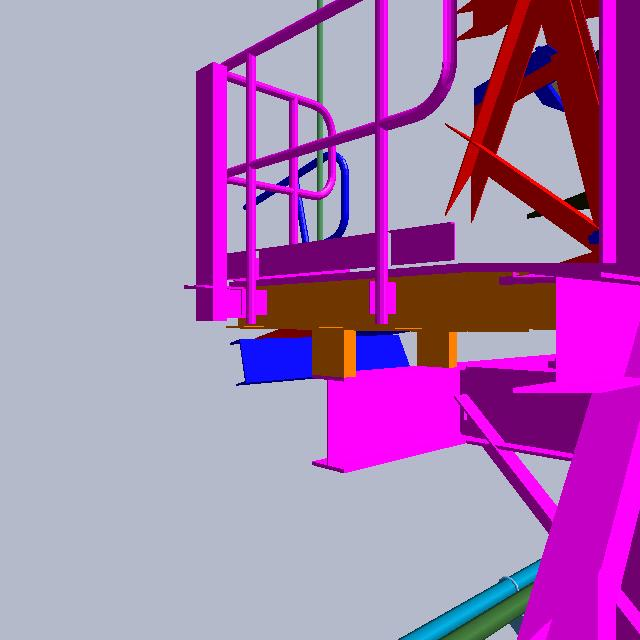Poste: (311, 1, 326, 322)
Soporte: (188, 56, 277, 331)
